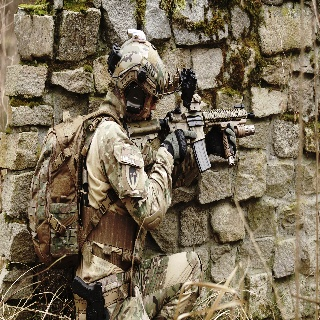rifle: (126, 94, 257, 173)
